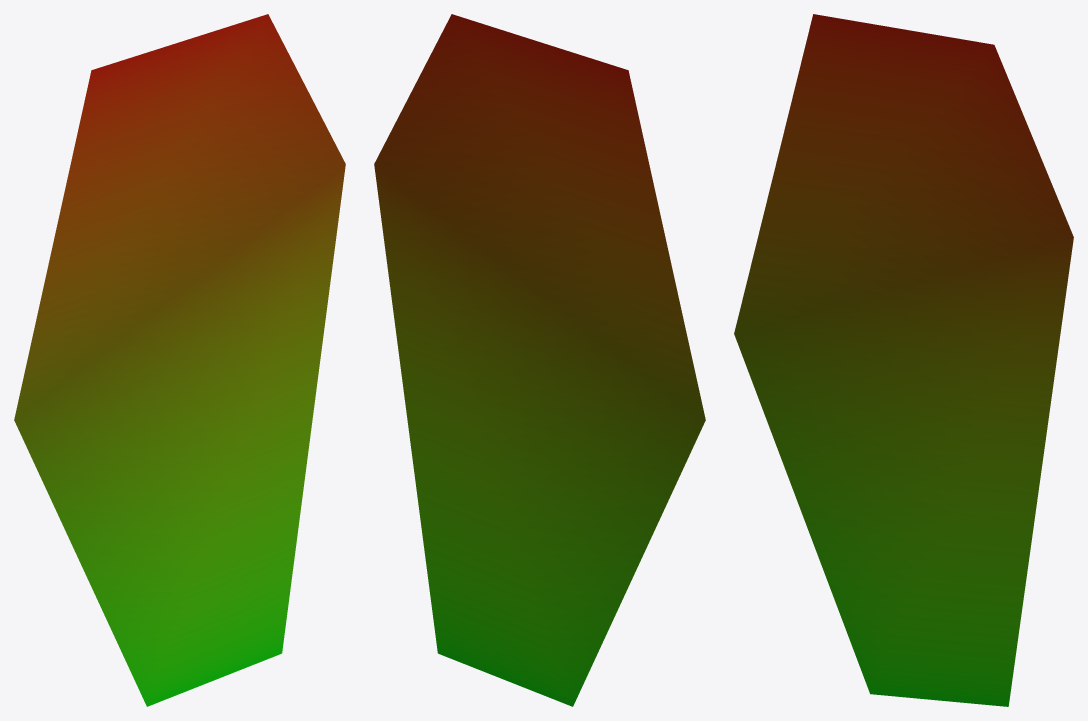
Rendered from Rubber Bush_LOD7_Var8_xffhfekia.fbx.
3 views of the same model, side by side, from view 1: azimuth 30°, elevation 25°; view 2: azimuth 150°, elevation 25°; view 3: azimuth 330°, elevation 25° (orthographic). The views are drawn at different scales.
Visible parts, largest first — view 1: _qj55_Var8_LOD7; view 2: _qj55_Var8_LOD7; view 3: _qj55_Var8_LOD7.
Boxes of the visible parts, <box> form: _qj55_Var8_LOD7: <box>14,14,345,706</box>; _qj55_Var8_LOD7: <box>374,14,705,706</box>; _qj55_Var8_LOD7: <box>734,14,1073,706</box>.
Bounding box in the file's own units: 24.66 × 47.13 × 3.96e-06.
